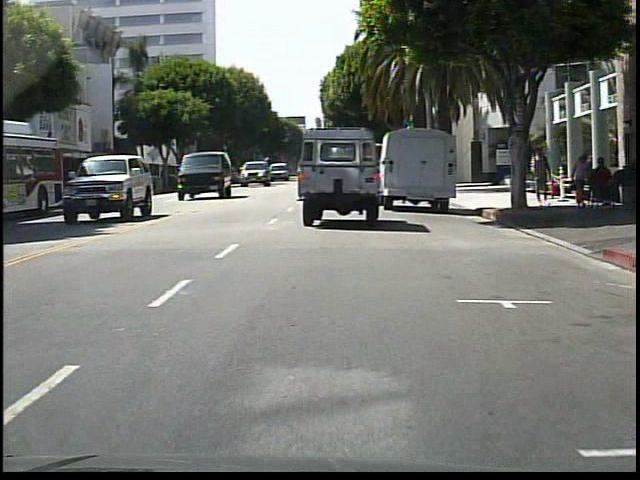person: (533, 144, 554, 208), (571, 151, 592, 207)
